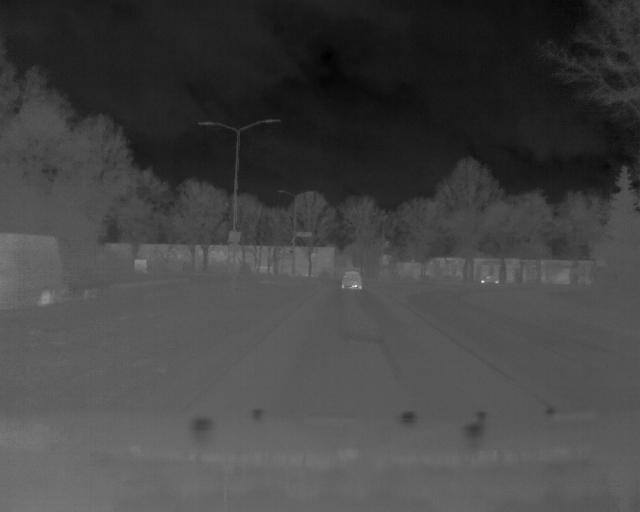car: (1, 234, 67, 309), (340, 270, 362, 291)
